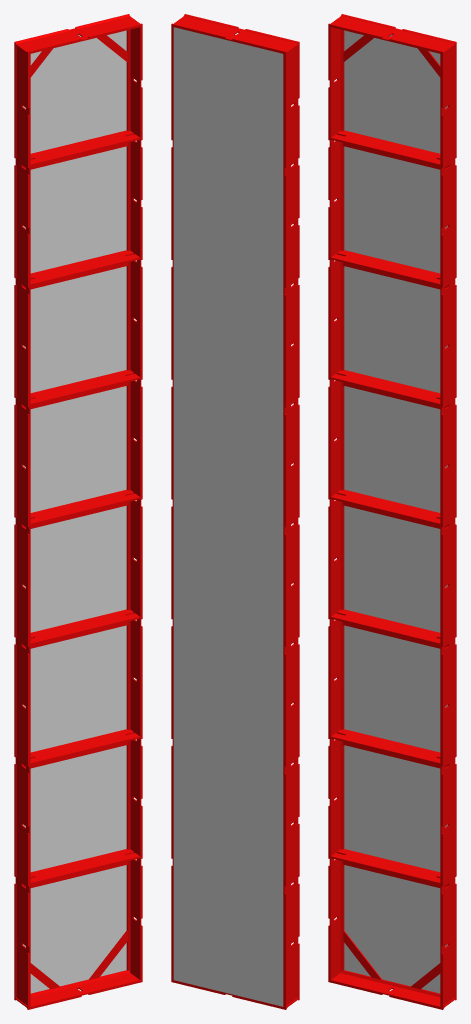
3 views of the same model, side by side, from view 1: azimuth 30°, elevation 25°; view 2: azimuth 150°, elevation 25°; view 3: azimuth 330°, elevation 25° (orthographic).
Visible parts, largest first — view 1: Sp-12X8-P, Sp-12X8; view 2: Sp-12X8-P, Sp-12X8; view 3: Sp-12X8-P, Sp-12X8.
Boxes of the visible parts, x1,y1,x2,y2 form: Sp-12X8-P: [23, 30, 126, 993]; Sp-12X8: [14, 14, 142, 1009]; Sp-12X8-P: [173, 27, 283, 1006]; Sp-12X8: [171, 14, 299, 1009]; Sp-12X8-P: [344, 30, 447, 993]; Sp-12X8: [328, 14, 456, 1009].
Size of the model in its own units: 12 by 96 by 2.5.
